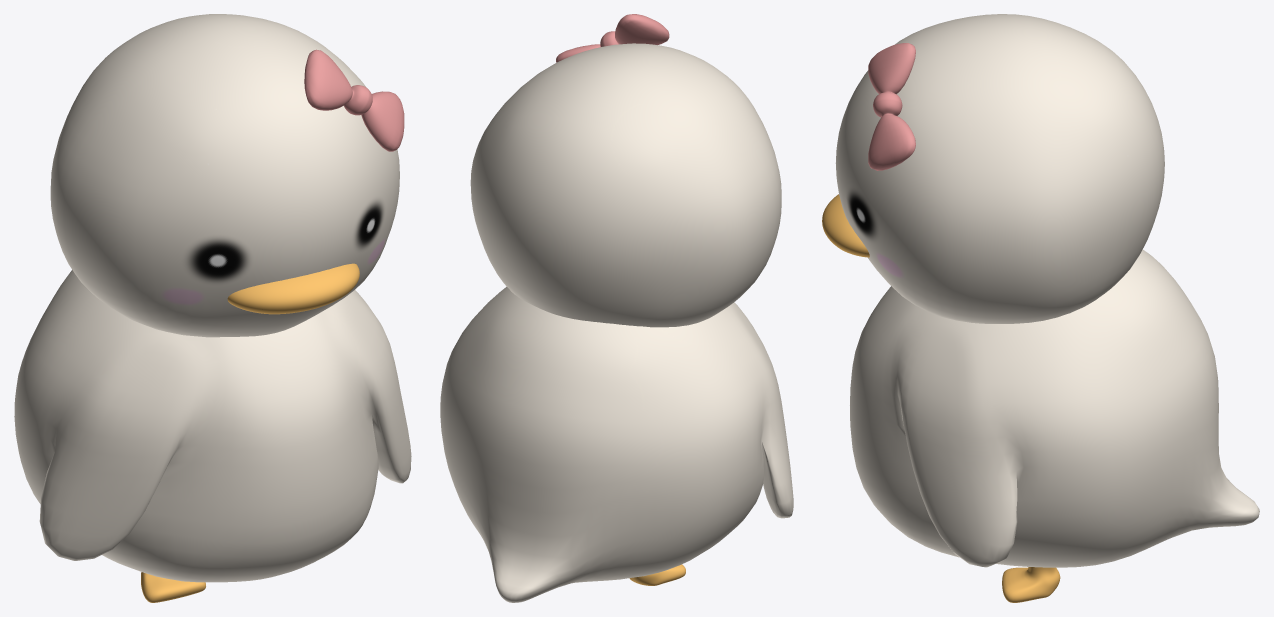
The model's file is mamaduck2.fbx.
3 renders of one model, left to right at view 1: azimuth 30°, elevation 25°; view 2: azimuth 150°, elevation 25°; view 3: azimuth 270°, elevation 25°, orthographic. The views are drawn at different scales.
Parts seen in each view (by area): view 1: mamabody.004, mamahead.004, bow.005, mamabeak.003, mamarightfoot.004; view 2: mamabody.004, mamahead.004, bow.005, mamarightfoot.004; view 3: mamabody.004, mamahead.004, bow.005, mamaleftfoot.004, mamabeak.003.
Part boxes in pixels (x1=…): mamabody.004: x1=14, y1=270, x2=411, y2=582; mamahead.004: x1=50, y1=14, x2=399, y2=337; bow.005: x1=304, y1=49, x2=404, y2=151; mamabeak.003: x1=227, y1=263, x2=359, y2=314; mamarightfoot.004: x1=141, y1=572, x2=205, y2=602; mamabody.004: x1=440, y1=286, x2=793, y2=602; mamahead.004: x1=470, y1=43, x2=781, y2=327; bow.005: x1=556, y1=14, x2=669, y2=62; mamarightfoot.004: x1=629, y1=564, x2=685, y2=585; mamabody.004: x1=850, y1=249, x2=1259, y2=567; mamahead.004: x1=835, y1=14, x2=1164, y2=323; bow.005: x1=868, y1=43, x2=915, y2=170; mamaleftfoot.004: x1=1002, y1=567, x2=1060, y2=602; mamabeak.003: x1=822, y1=194, x2=869, y2=257.
Size of the model in its own units: 69.71 by 104 by 75.89.
3 materials, 1 textured.
